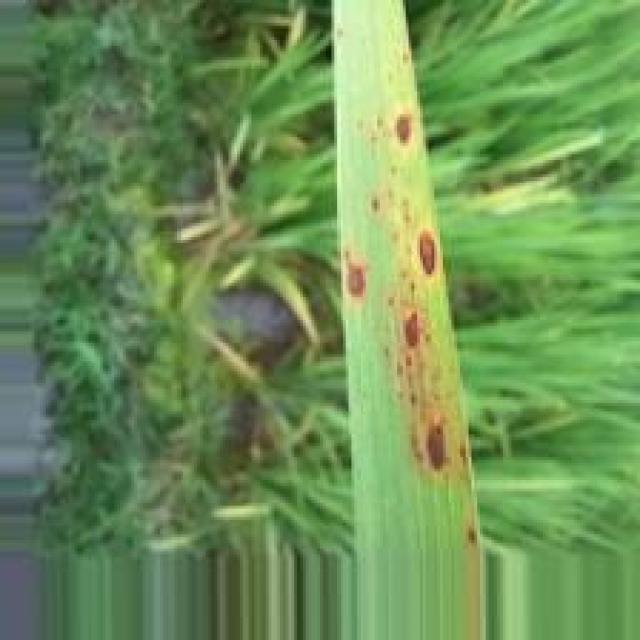Brown_Spot: (400, 308, 431, 359), (417, 219, 441, 283), (426, 420, 450, 482), (345, 250, 372, 305), (395, 106, 416, 148), (368, 195, 390, 215)
